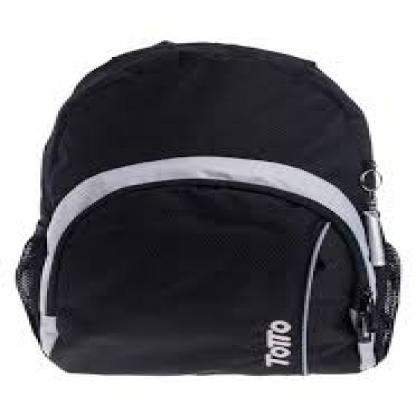morral: (9, 21, 411, 386)
